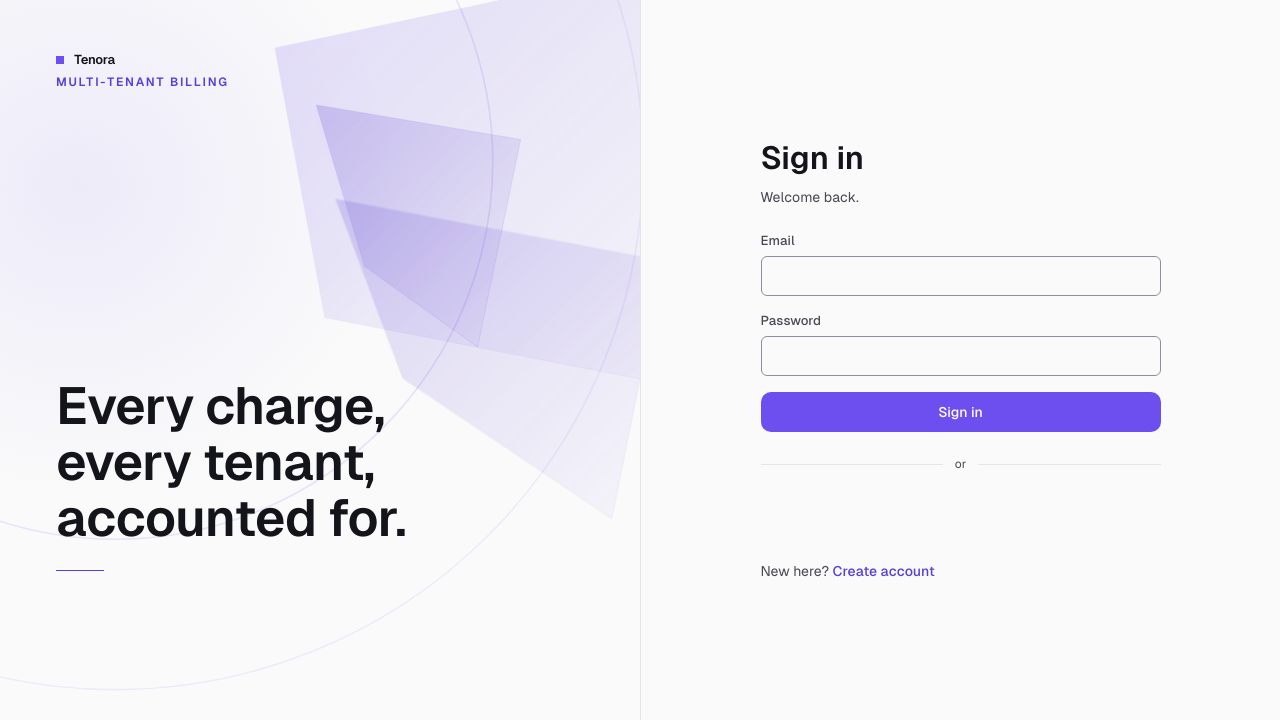
Test: LoginPage › links to the register page
Expected: the heading "Sign in" is shown, [760,140,864,176]
Click the link "Create account" at x=884, y=571, box [833,563,935,579]
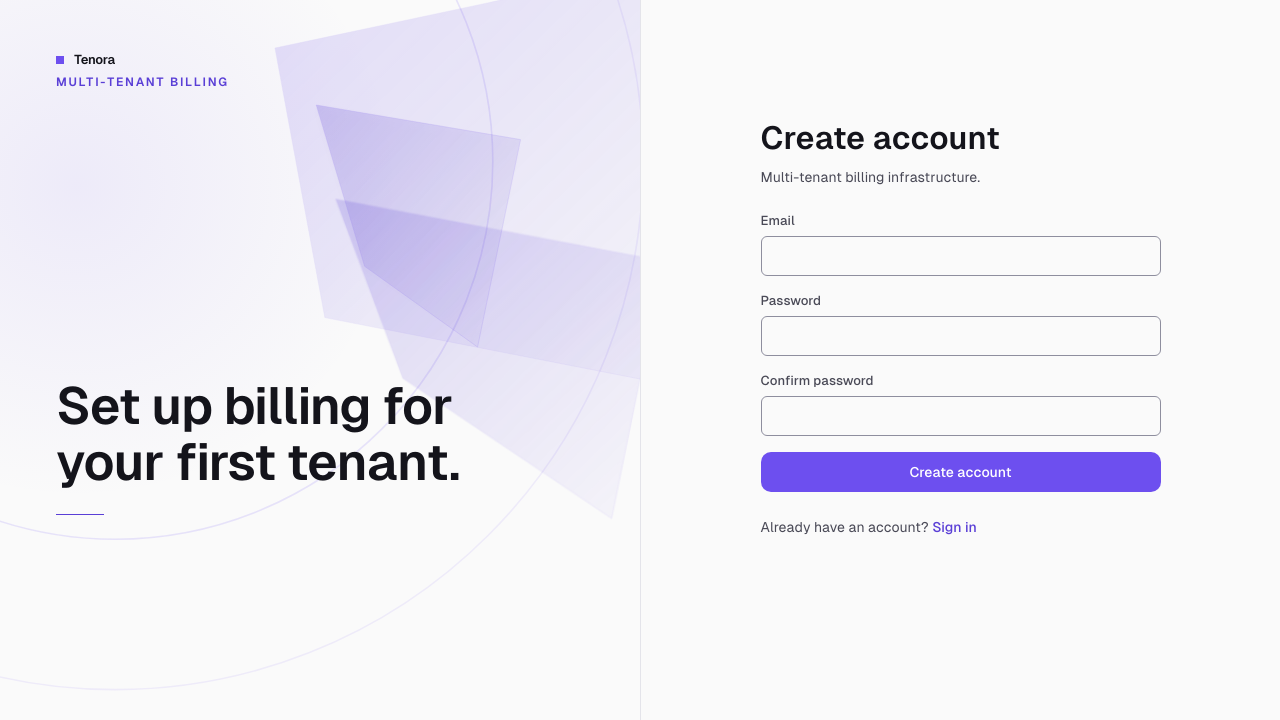
Expected: the heading "Create account" is shown, [760,120,1000,156]
